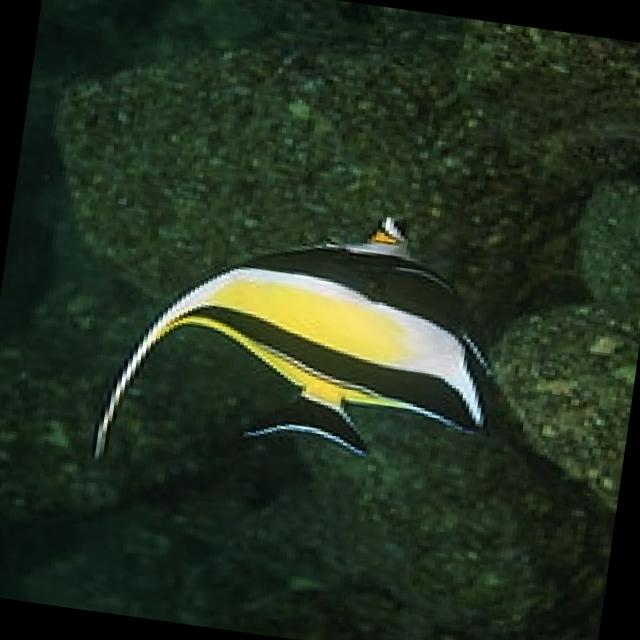MorishIdol: (78, 176, 522, 518)
